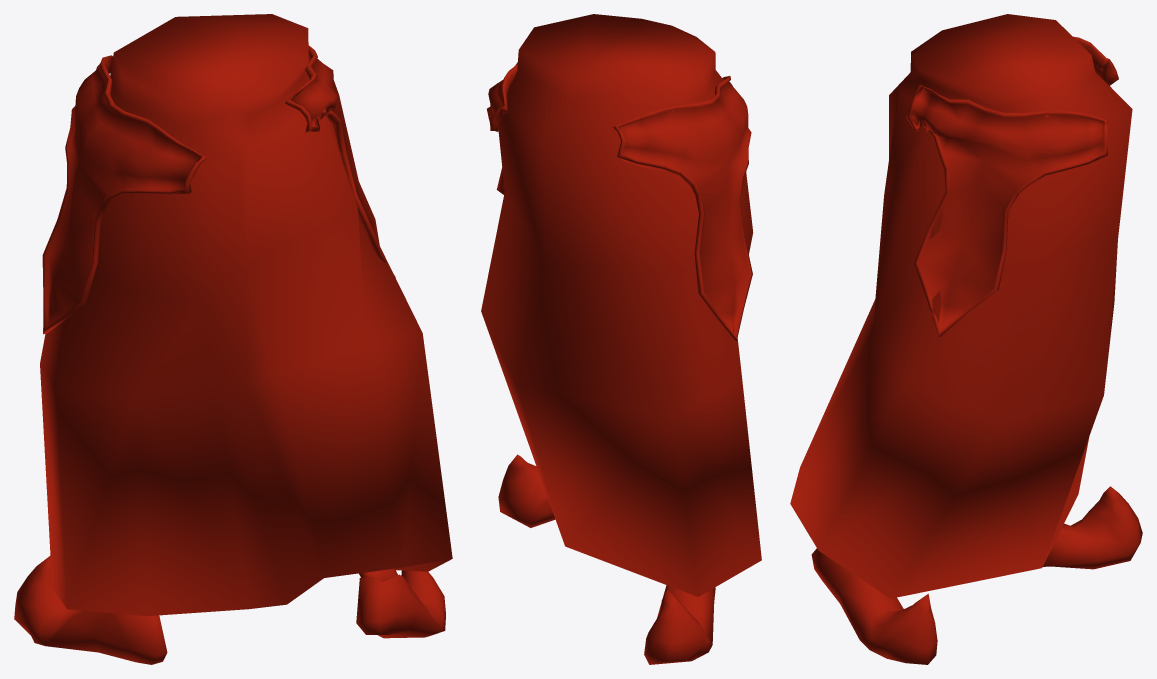
Rendered from bot_000036.obj.
3 views of the same model, side by side, from view 1: azimuth 30°, elevation 25°; view 2: azimuth 150°, elevation 25°; view 3: azimuth 270°, elevation 25° (orthographic). The views are drawn at different scales.
Parts seen in each view (by area): view 1: LowPoly_Warlock.004_Plane.004; view 2: LowPoly_Warlock.004_Plane.004; view 3: LowPoly_Warlock.004_Plane.004.
Boxes of the visible parts, x1,y1,x2,y2 form: LowPoly_Warlock.004_Plane.004: (14,14,452,664); LowPoly_Warlock.004_Plane.004: (481,14,761,664); LowPoly_Warlock.004_Plane.004: (790,14,1142,664).
Size of the model in its own units: 0.629 by 1.11 by 0.6344.
